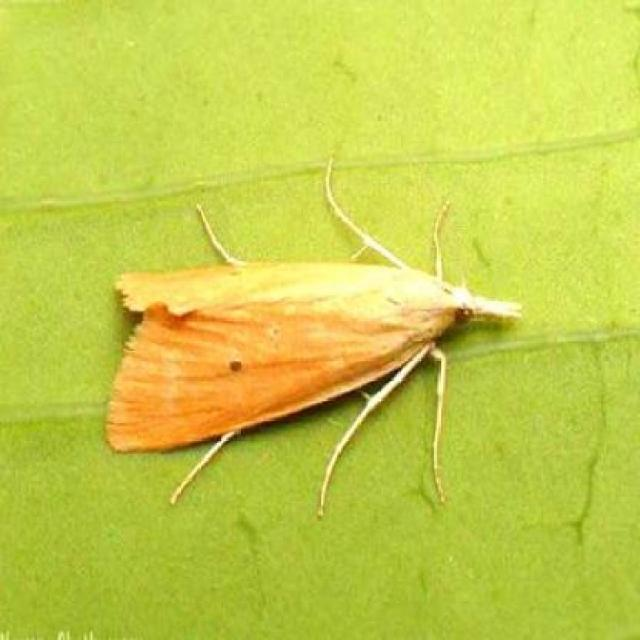stem-borer: (103, 240, 528, 469)
